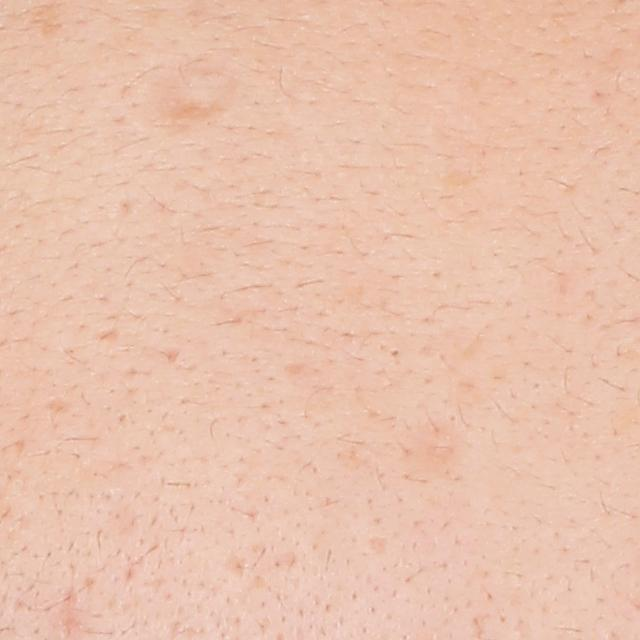atrophic_scar: (116, 59, 273, 134), (40, 394, 77, 418)
